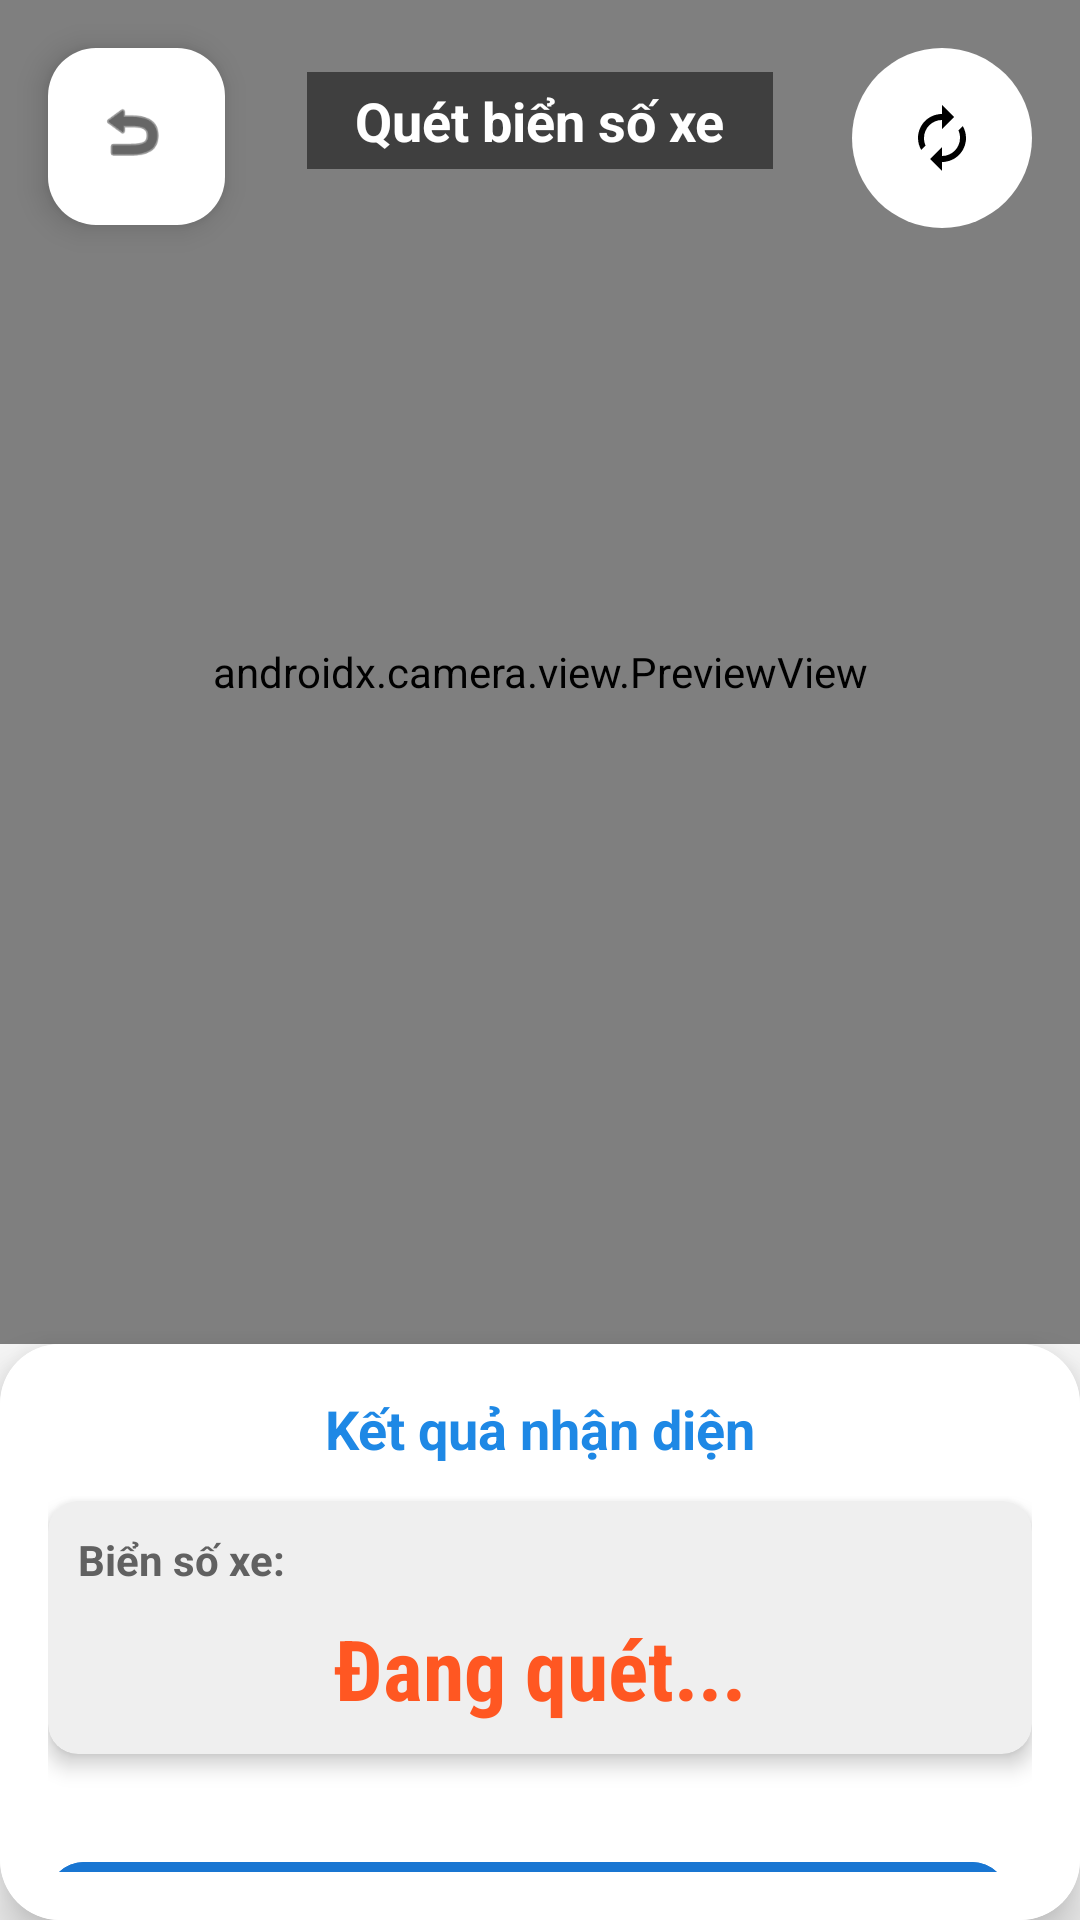

Icon click points for this 1080 × 1920 phone screenshot, format (x=x, y=y):
Quay lại: (x=136, y=136)
switch camera: (x=942, y=138)
